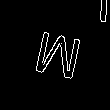M_S: (30, 29, 84, 89)
